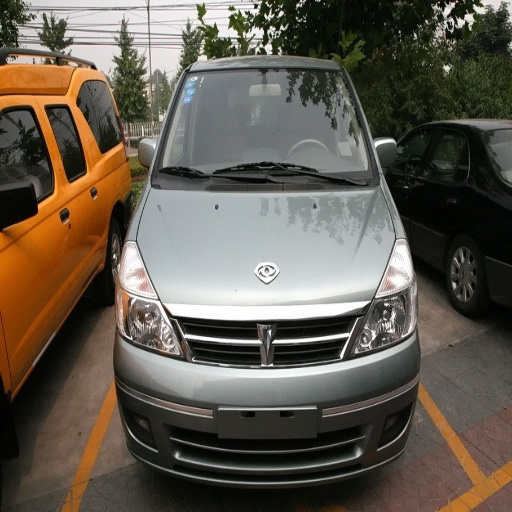front_bumper: (116, 301, 416, 487)
front_right_light: (117, 243, 181, 358)
hood: (137, 176, 399, 363)
